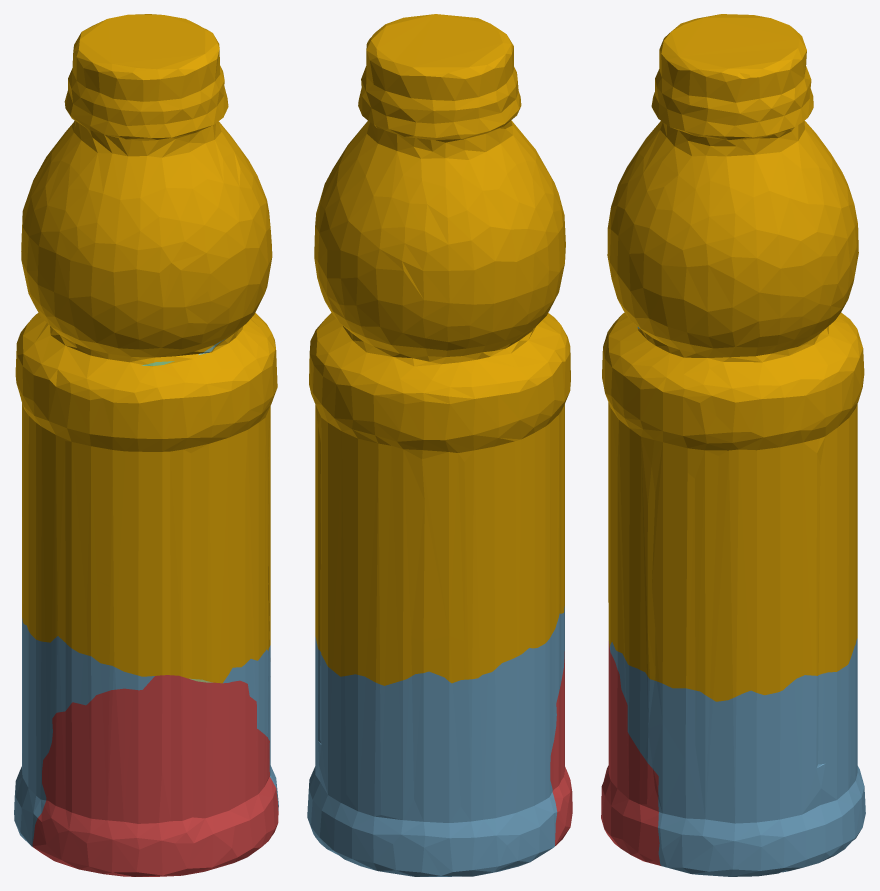
The model's file is fractured_37_6pcs.glb.
3 renders of one model, left to right at view 1: azimuth 30°, elevation 25°; view 2: azimuth 150°, elevation 25°; view 3: azimuth 270°, elevation 25°, orthographic.
Visible parts, largest first — view 1: piece_0.obj, piece_1.obj, piece_2.obj; view 2: piece_0.obj, piece_2.obj, piece_1.obj; view 3: piece_0.obj, piece_2.obj, piece_1.obj.
Part boxes in pixels (box(x1,y1,x2,y2)): piece_0.obj: box(15, 14, 277, 683); piece_1.obj: box(32, 675, 278, 876); piece_2.obj: box(14, 618, 278, 846); piece_0.obj: box(309, 14, 570, 685); piece_2.obj: box(307, 606, 564, 876); piece_1.obj: box(550, 651, 572, 845); piece_0.obj: box(602, 14, 864, 701); piece_2.obj: box(610, 638, 865, 876); piece_1.obj: box(601, 641, 661, 866).
Size of the model in its own units: 0.3065 by 1 by 0.3062.
